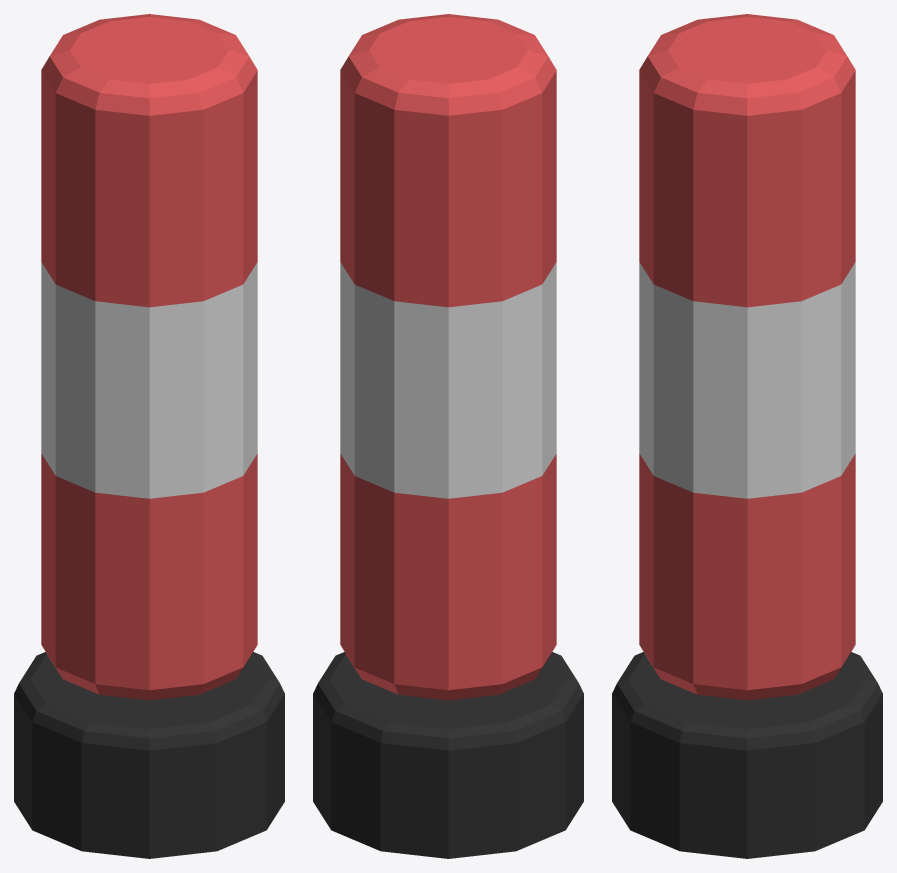
The model's file is Training Bag.fbx.
3 views of the same model, side by side, from view 1: azimuth 30°, elevation 25°; view 2: azimuth 150°, elevation 25°; view 3: azimuth 270°, elevation 25° (orthographic).
Visible parts, largest first — view 1: Training Bag, Training Bag Stand; view 2: Training Bag, Training Bag Stand; view 3: Training Bag, Training Bag Stand.
Part boxes in pixels (left/top/right/bottom): Training Bag: left=41, top=14, right=257, bottom=700; Training Bag Stand: left=14, top=652, right=284, bottom=858; Training Bag: left=340, top=14, right=556, bottom=700; Training Bag Stand: left=313, top=652, right=583, bottom=858; Training Bag: left=639, top=14, right=855, bottom=700; Training Bag Stand: left=612, top=652, right=882, bottom=858.
Size of the model in its own units: 320 by 980 by 320.
